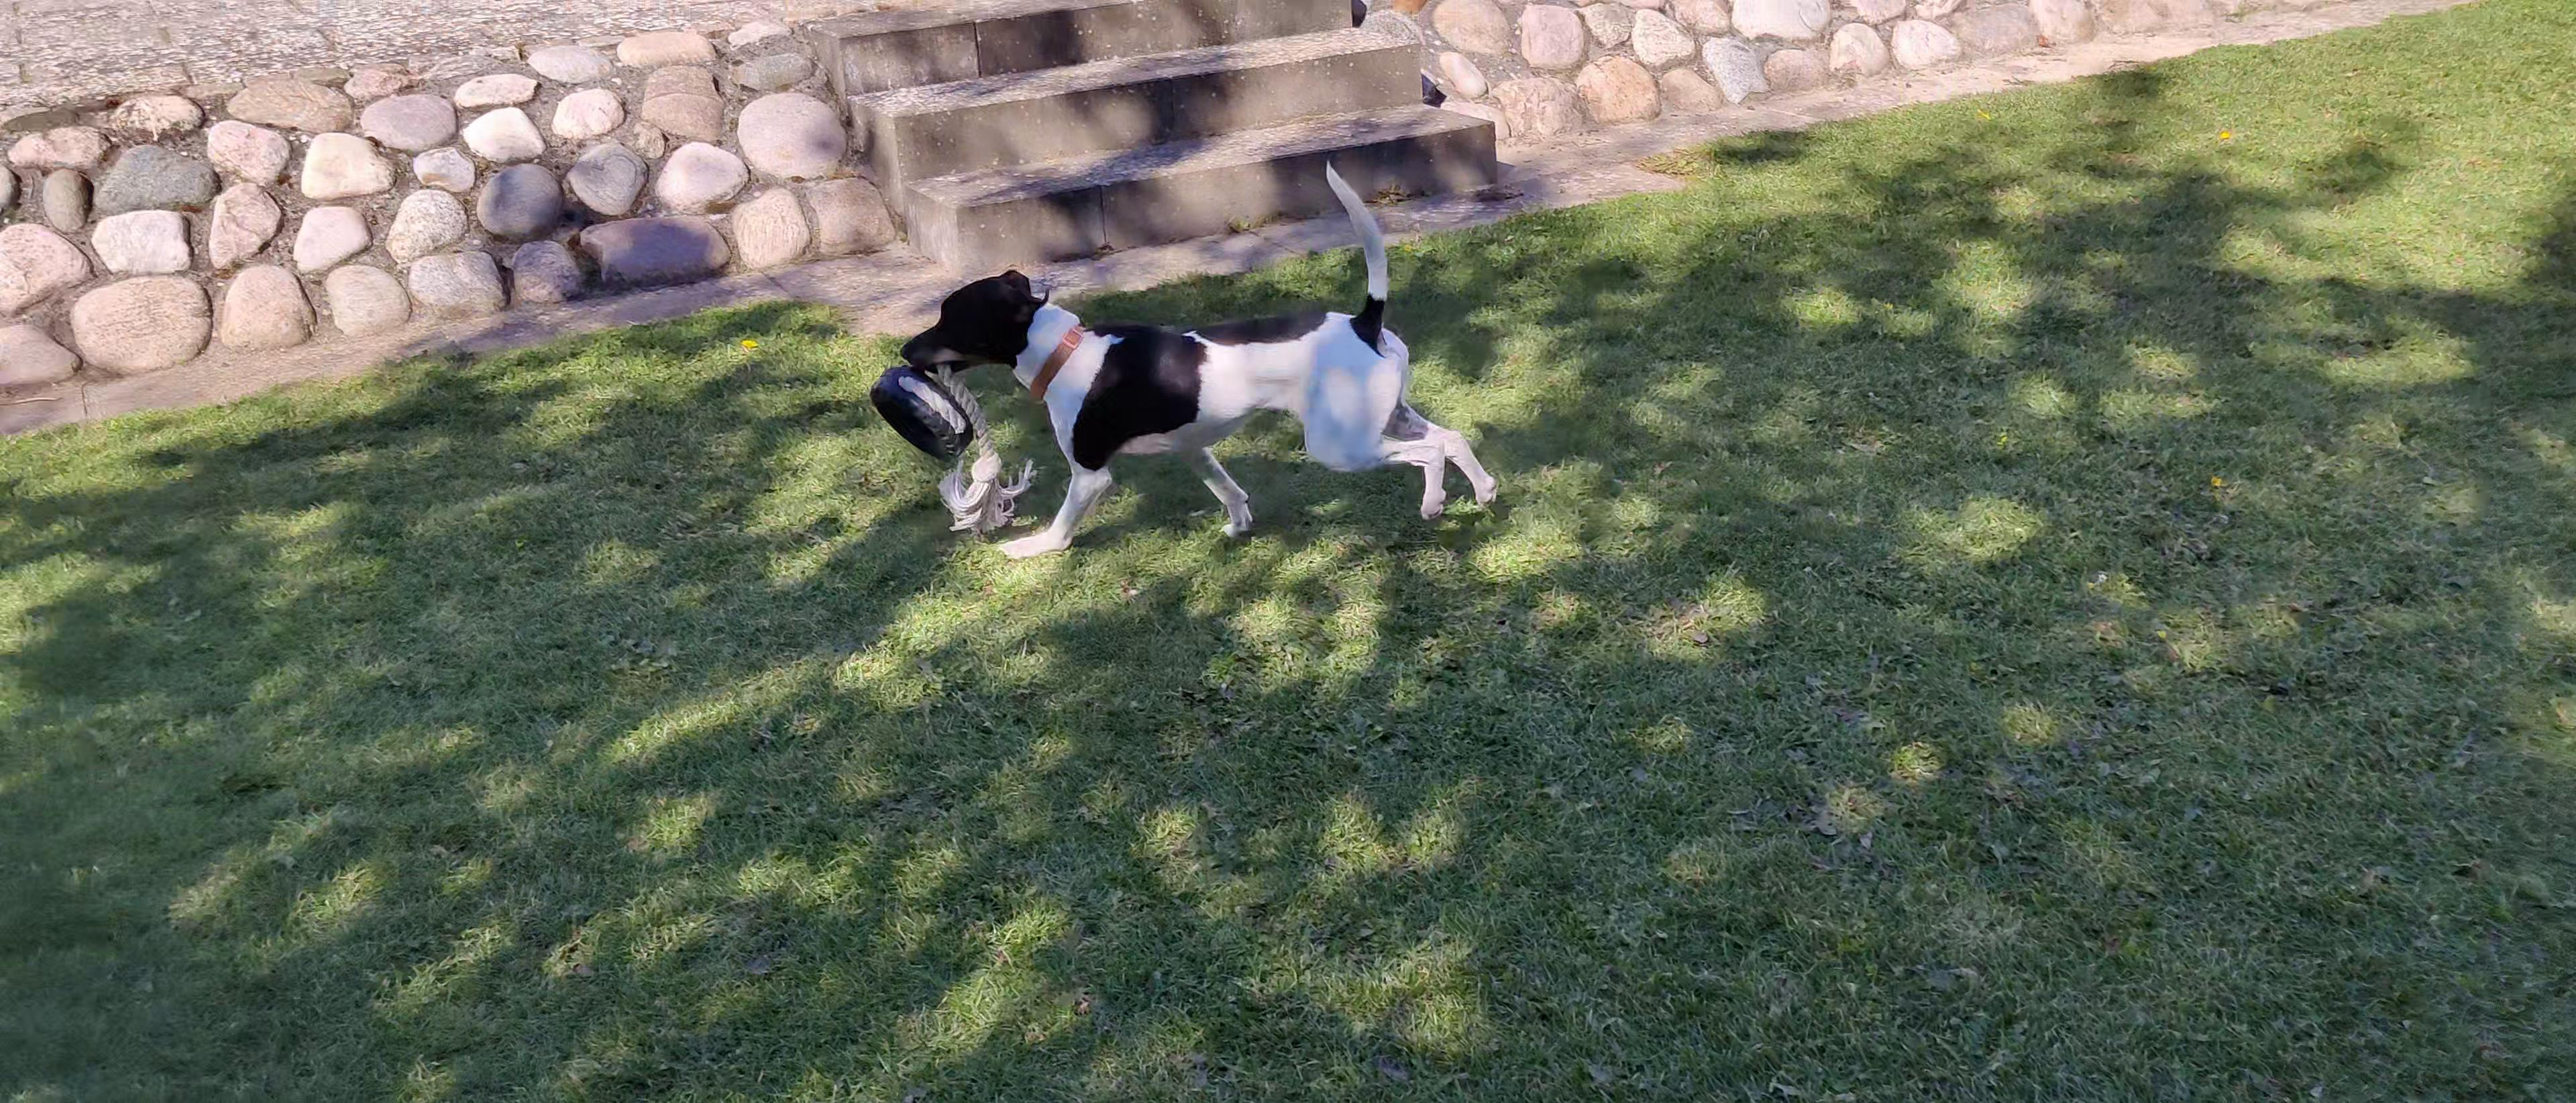Dog: (887, 153, 1526, 570)
